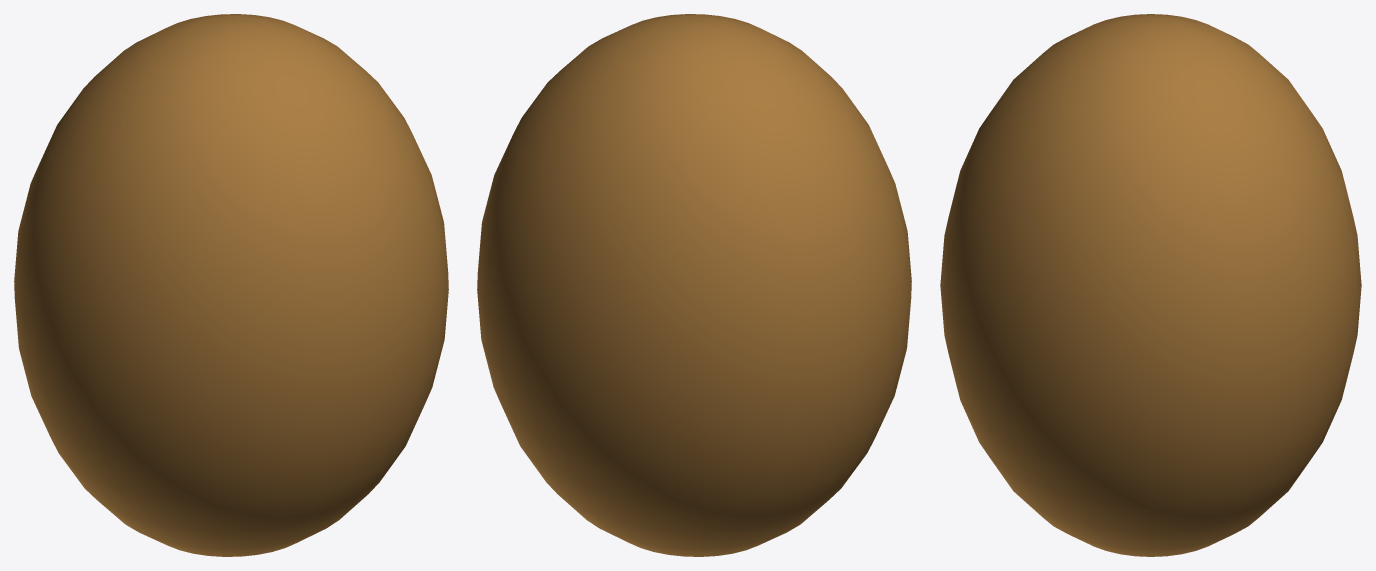
The model's file is egg.glb.
3 renders of one model, left to right at view 1: azimuth 30°, elevation 25°; view 2: azimuth 150°, elevation 25°; view 3: azimuth 270°, elevation 25°, orthographic.
Parts seen in each view (by area): view 1: Sphere; view 2: Sphere; view 3: Sphere.
Boxes of the visible parts, left/top/right/bottom form: Sphere: left=14, top=14, right=448, bottom=556; Sphere: left=477, top=14, right=911, bottom=556; Sphere: left=940, top=14, right=1361, bottom=556.
Size of the model in its own units: 2.92 by 3.75 by 2.8.
